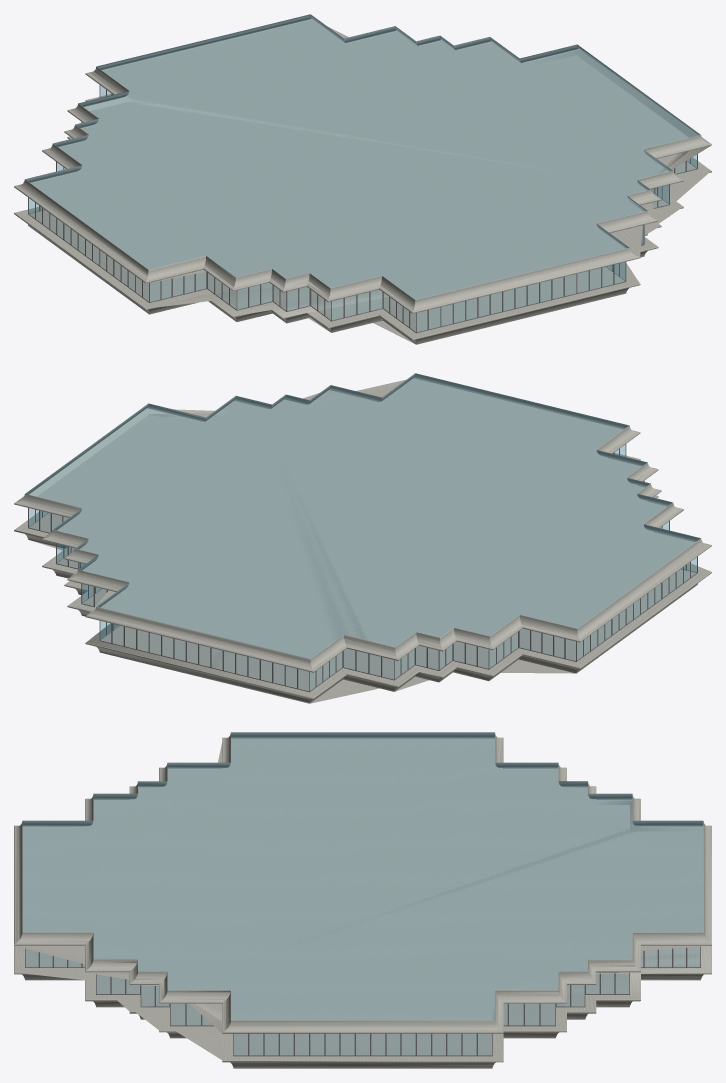
Rendered from floor6_empty.fbx.
3 renders of one model, top to bottom at view 1: azimuth 30°, elevation 25°; view 2: azimuth 150°, elevation 25°; view 3: azimuth 270°, elevation 25°, orthographic. The views are drawn at different scales.
Parts seen in each view (by area): view 1: polySurface21.002; view 2: polySurface21.002; view 3: polySurface21.002.
Boxes of the visible parts, x1,y1,x2,y2 form: polySurface21.002: (14, 14, 711, 344); polySurface21.002: (14, 373, 711, 703); polySurface21.002: (14, 732, 711, 1068).
Bounding box in the file's own units: 728 × 56.71 × 728.
Materials: 3 (1 with a texture image).
